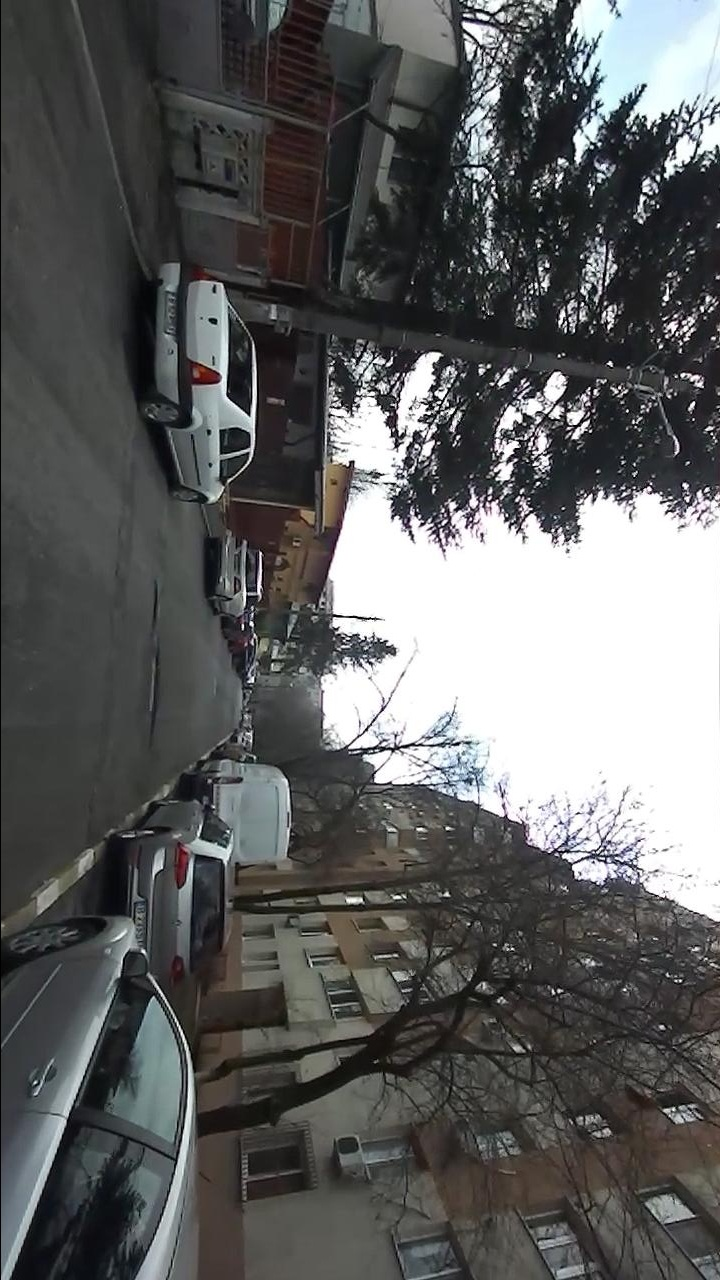pothole: (146, 653, 161, 745), (149, 582, 159, 630)
